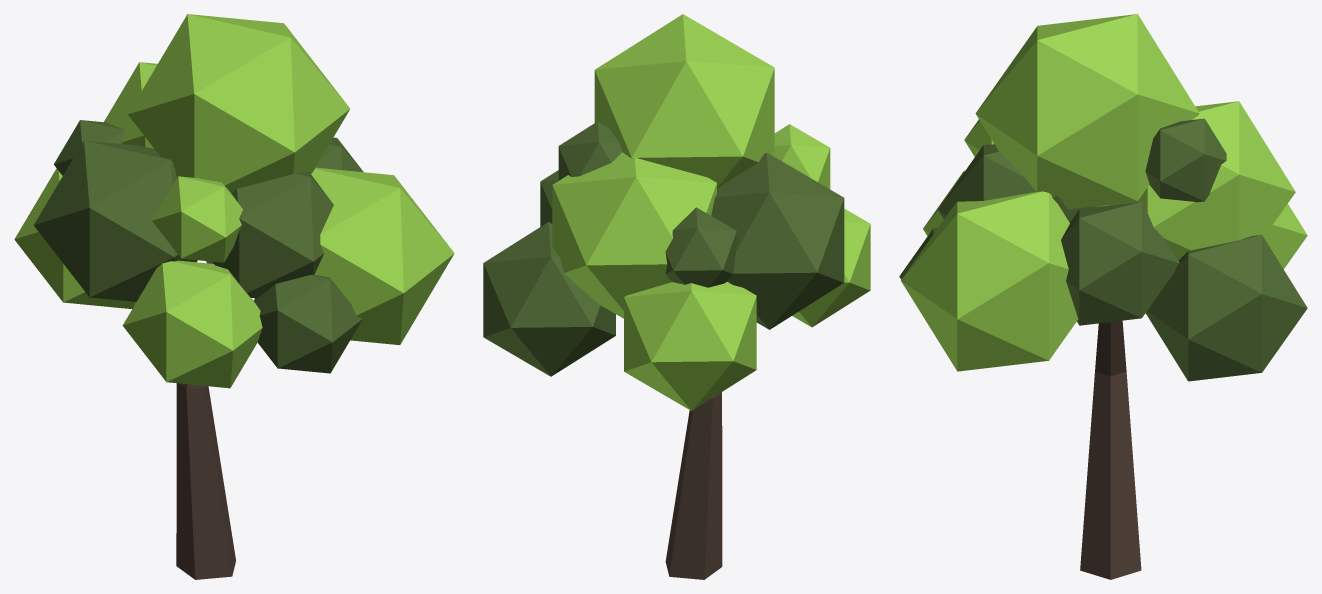
The model's file is _tree_new_2.fbx.
3 views of the same model, side by side, from view 1: azimuth 30°, elevation 25°; view 2: azimuth 150°, elevation 25°; view 3: azimuth 270°, elevation 25° (orthographic). The views are drawn at different scales.
Parts seen in each view (by area): view 1: polySurface26.010, polySurface26.006, polySurface26.015, polySurface26.008, polySurface26.004, polySurface26.013, polySurface26, polySurface26.007, polySurface26.011, polySurface26.009, polySurface26.005, polySurface26.001; view 2: polySurface26.010, polySurface26.009, polySurface26.006, polySurface26.011, polySurface26.003, polySurface26.013, polySurface26.005, polySurface26.008, polySurface26.002, polySurface26.007, polySurface26.001; view 3: polySurface26.010, polySurface26.015, polySurface26.003, polySurface26.009, polySurface26.013, polySurface26.001, polySurface26.002, polySurface26.004, polySurface26.011, polySurface26.007.
Part boxes in pixels (x1=…): polySurface26.010: x1=128, y1=14, x2=349, y2=192; polySurface26.006: x1=33, y1=140, x2=197, y2=301; polySurface26.015: x1=311, y1=167, x2=454, y2=344; polySurface26.008: x1=122, y1=260, x2=262, y2=388; polySurface26.004: x1=212, y1=171, x2=333, y2=298; polySurface26.013: x1=176, y1=261, x2=235, y2=579; polySurface26: x1=253, y1=274, x2=362, y2=373; polySurface26.007: x1=152, y1=176, x2=242, y2=262; polySurface26.011: x1=14, y1=168, x2=136, y2=308; polySurface26.009: x1=104, y1=62, x2=157, y2=148; polySurface26.005: x1=54, y1=120, x2=125, y2=175; polySurface26.001: x1=316, y1=137, x2=363, y2=172; polySurface26.010: x1=594, y1=14, x2=774, y2=188; polySurface26.009: x1=552, y1=152, x2=716, y2=318; polySurface26.006: x1=711, y1=152, x2=844, y2=329; polySurface26.011: x1=624, y1=282, x2=756, y2=410; polySurface26.003: x1=483, y1=222, x2=615, y2=376; polySurface26.013: x1=665, y1=392, x2=722, y2=579; polySurface26.005: x1=665, y1=207, x2=736, y2=287; polySurface26.008: x1=792, y1=208, x2=870, y2=327; polySurface26.002: x1=558, y1=121, x2=622, y2=180; polySurface26.007: x1=773, y1=124, x2=830, y2=188; polySurface26.001: x1=540, y1=170, x2=558, y2=226; polySurface26.010: x1=975, y1=14, x2=1199, y2=209; polySurface26.015: x1=901, y1=191, x2=1078, y2=371; polySurface26.003: x1=1145, y1=235, x2=1307, y2=381; polySurface26.009: x1=1100, y1=101, x2=1295, y2=260; polySurface26.013: x1=1080, y1=320, x2=1141, y2=579; polySurface26.001: x1=1061, y1=202, x2=1179, y2=325; polySurface26.002: x1=1145, y1=118, x2=1226, y2=202; polySurface26.004: x1=938, y1=144, x2=1099, y2=222; polySurface26.011: x1=1264, y1=204, x2=1307, y2=268; polySurface26.007: x1=964, y1=119, x2=993, y2=156.
Bounding box in the file's own units: 293 × 473 × 319.
